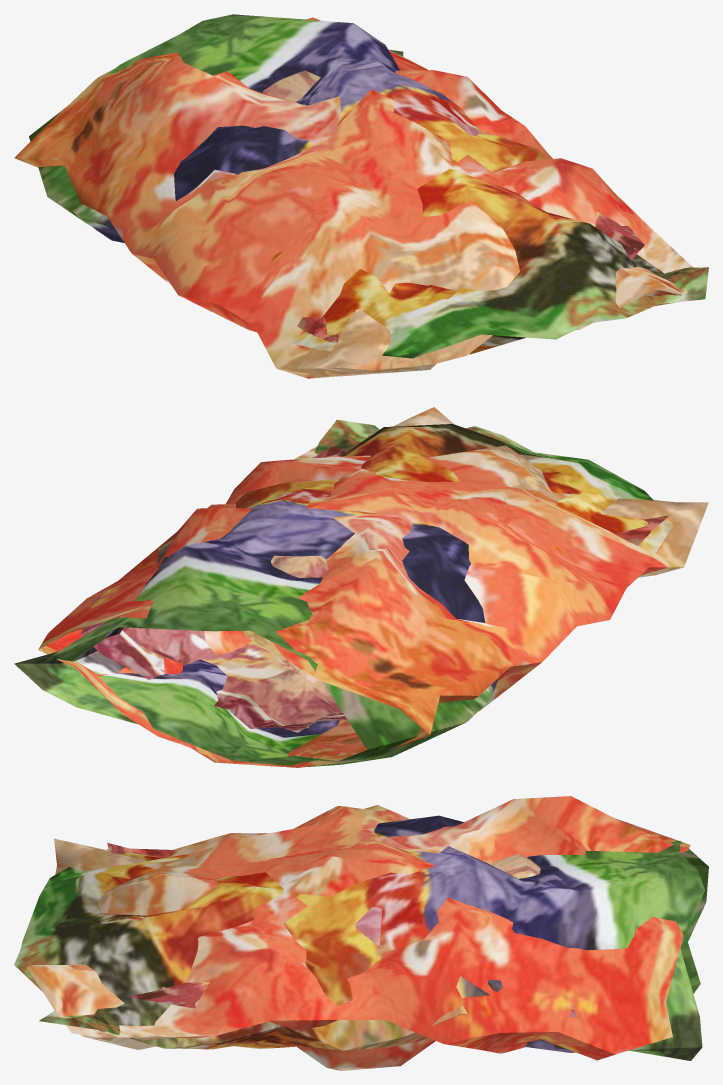
The model's file is trash_snack.fbx.
The picture shows the model from 3 angles, top to bottom: view 1: azimuth 30°, elevation 25°; view 2: azimuth 150°, elevation 25°; view 3: azimuth 270°, elevation 25°; orthographic projection. The views are drawn at different scales.
Parts seen in each view (by area): view 1: trash_snack_003, trash_snack_001, trash_snack_002; view 2: trash_snack_003, trash_snack_001, trash_snack_002; view 3: trash_snack_003, trash_snack_001, trash_snack_002.
Boxes of the visible parts, x1,y1,x2,y2 form: trash_snack_003: [14, 17, 692, 378]; trash_snack_001: [29, 14, 708, 358]; trash_snack_002: [262, 70, 644, 342]; trash_snack_003: [38, 407, 708, 767]; trash_snack_001: [14, 420, 672, 766]; trash_snack_002: [80, 446, 669, 732]; trash_snack_003: [27, 796, 696, 1070]; trash_snack_001: [14, 815, 708, 1060]; trash_snack_002: [107, 842, 576, 1017].
Bounding box in the file's own units: 27.93 × 39.74 × 12.76.
